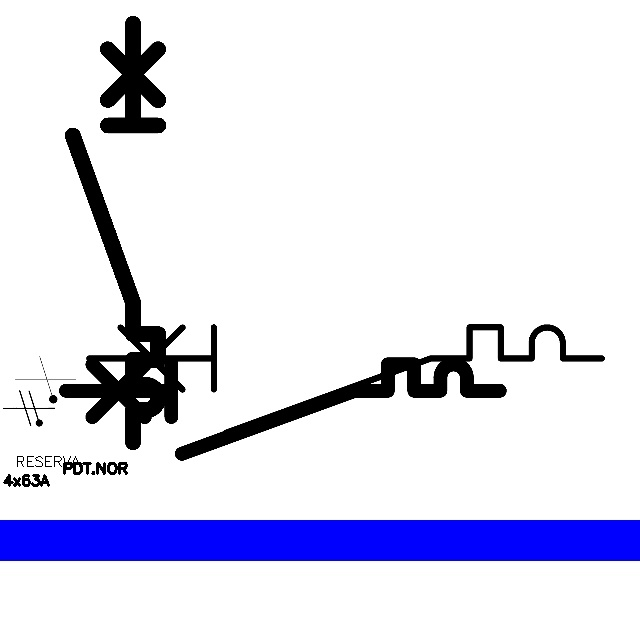interruptor_termomagnetico: (75, 314, 614, 446), (54, 353, 511, 465), (62, 13, 169, 453)
